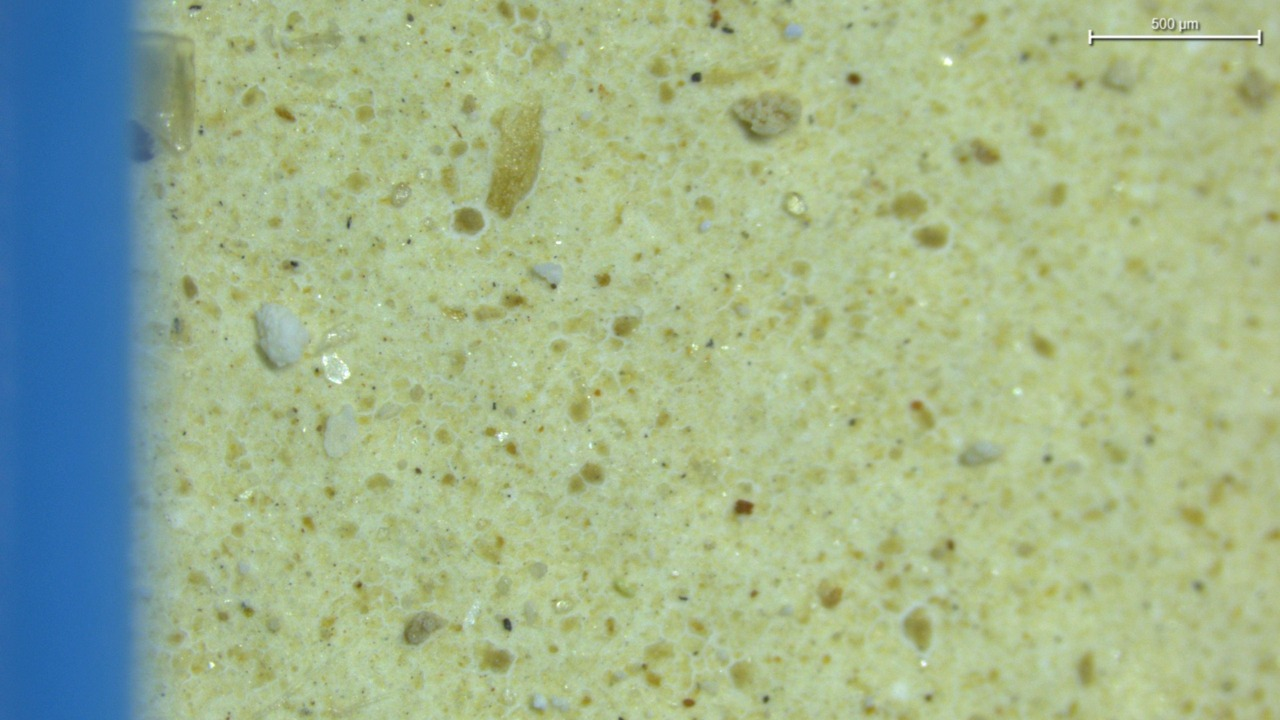microplastic_fragment: (255, 303, 309, 368), (732, 92, 801, 138), (324, 405, 358, 457), (533, 262, 562, 288)
